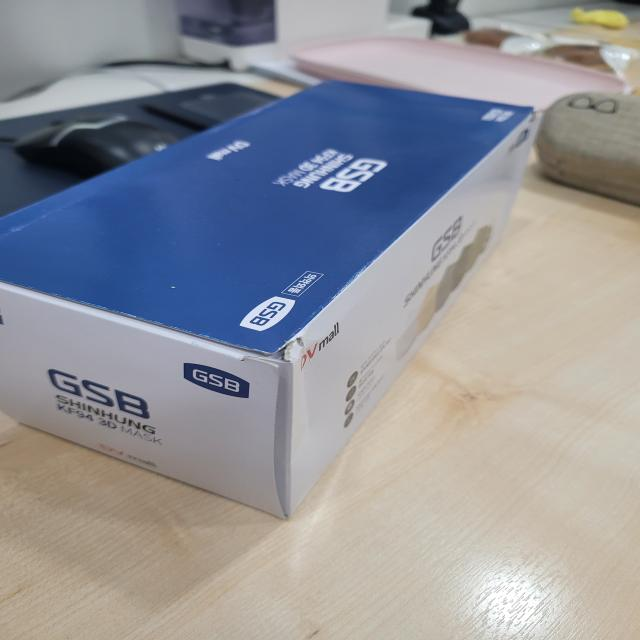mask: (4, 70, 544, 539)
